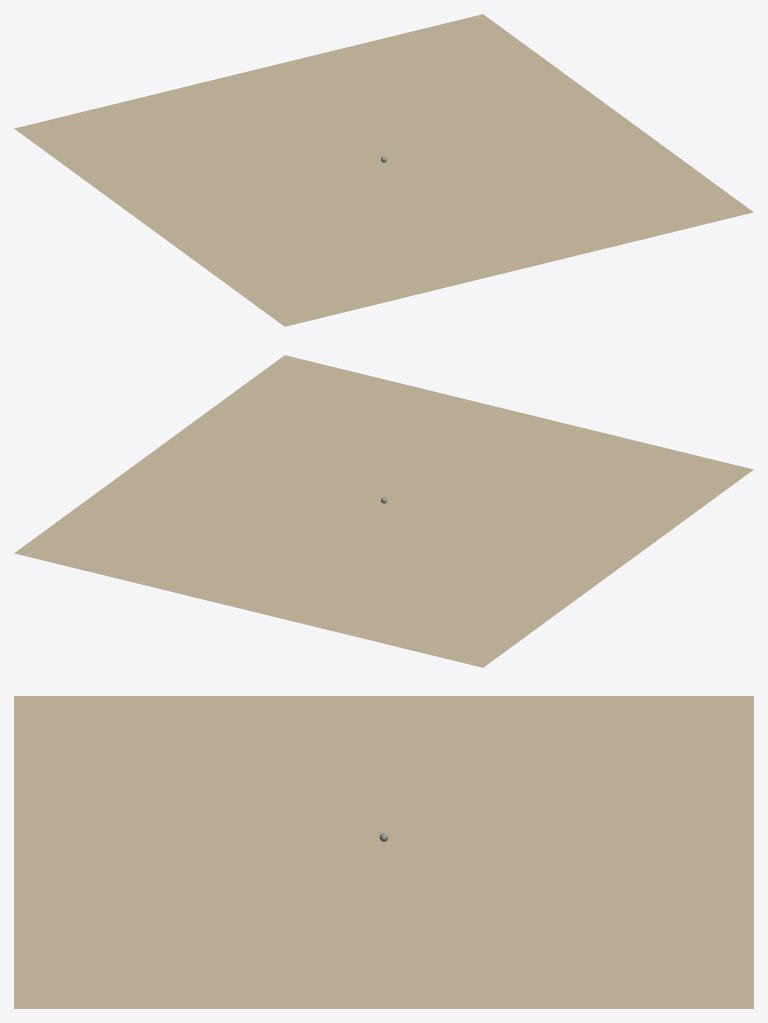
File: desert_401.gltf
The picture shows the model from 3 angles, top to bottom: view 1: azimuth 30°, elevation 25°; view 2: azimuth 150°, elevation 25°; view 3: azimuth 270°, elevation 25°; orthographic projection. The views are drawn at different scales.
Visible parts, largest first — view 1: Desert; view 2: Desert; view 3: Desert.
Boxes of the visible parts, bbox=[...] form: Desert: bbox=[14, 14, 753, 326]; Desert: bbox=[14, 355, 753, 667]; Desert: bbox=[14, 696, 753, 1008].
Size of the model in its own units: 120 by 3.4 by 120.
